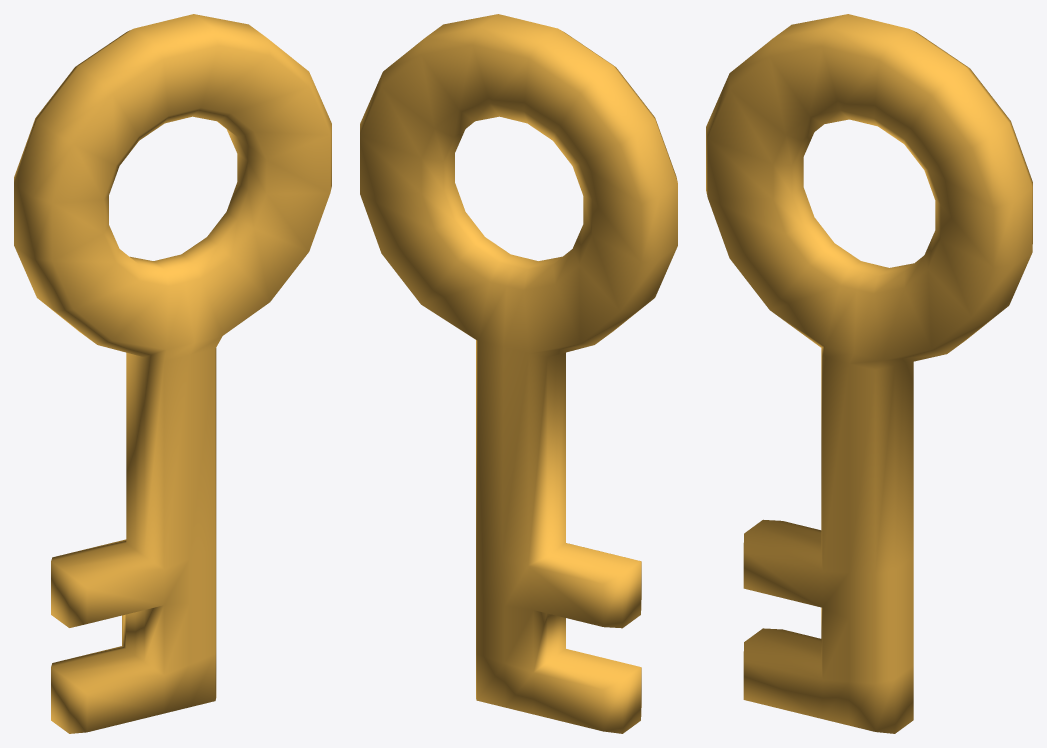
File: CollectableKey_Mansion Variant.fbx
3 renders of one model, left to right at view 1: azimuth 30°, elevation 25°; view 2: azimuth 150°, elevation 25°; view 3: azimuth 330°, elevation 25°, orthographic. The views are drawn at different scales.
Visible parts, largest first — view 1: key; view 2: key; view 3: key.
Boxes of the visible parts, <box> form: key: <box>14,14,331,733</box>; key: <box>360,14,677,733</box>; key: <box>706,14,1032,733</box>.
Size of the model in its own units: 1.17 by 2.5 by 0.2464.
